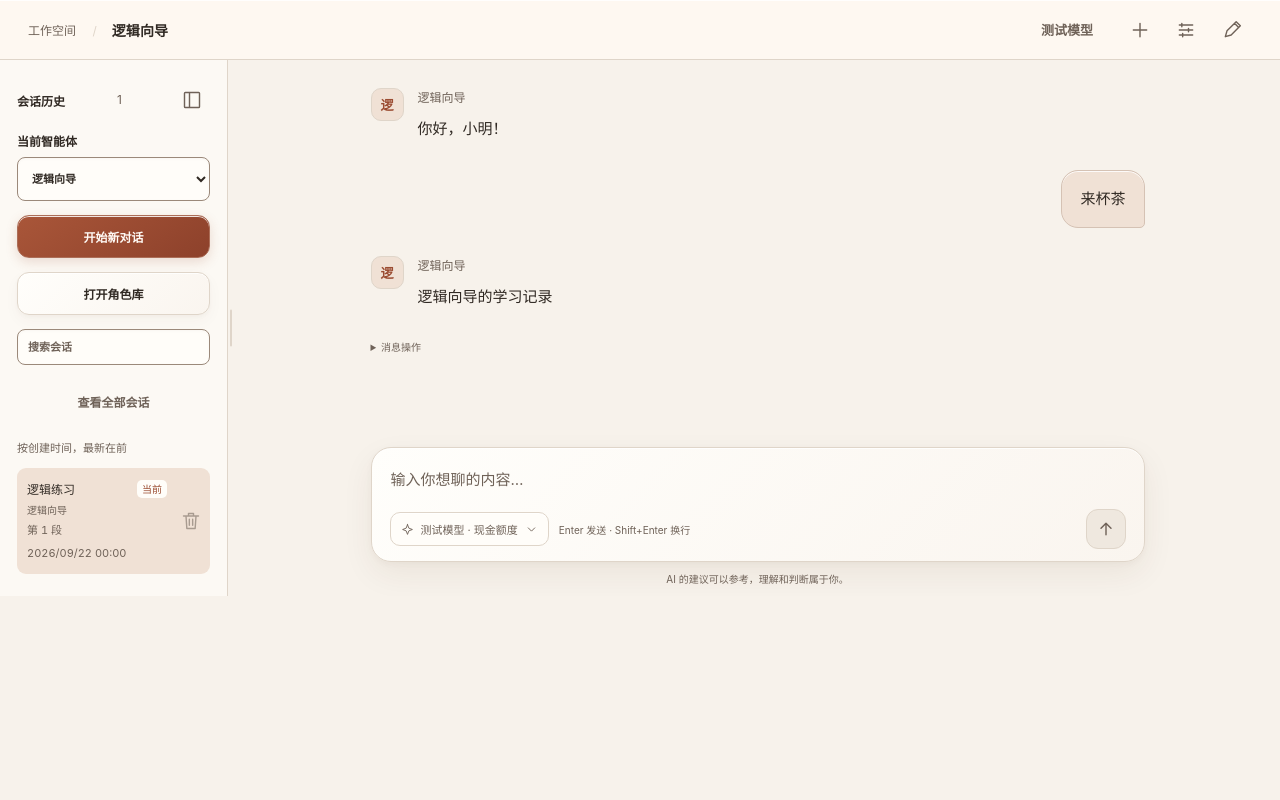
Test case: opens the selected learning role own conversation without replacing another conversation role
Expected: the text "逻辑向导的学习记录" is shown, [418, 286, 552, 306]
Select "阅读伙伴" in the dropdown at (114, 179), box [17, 157, 210, 201]
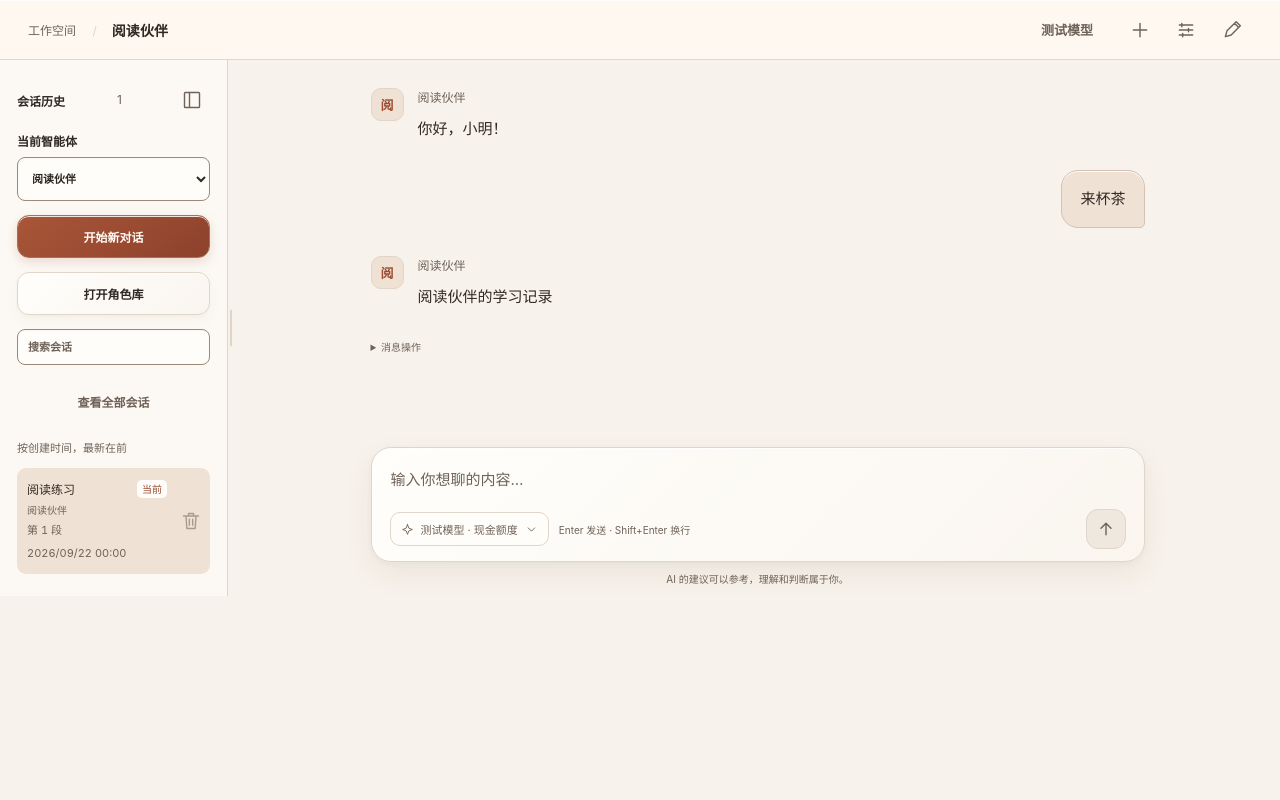
Now the text "阅读伙伴的学习记录" is shown, box [418, 286, 552, 306]
Now the text "逻辑向导的学习记录" is gone
